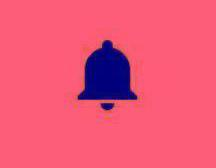ImgButton: (1, 1, 215, 167)
